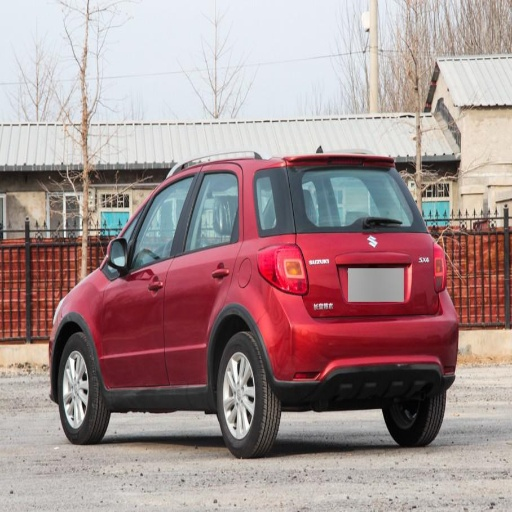back_bumper: (262, 288, 454, 386)
back_glass: (258, 167, 412, 226)
back_left_door: (164, 167, 243, 385)
trunk: (292, 234, 435, 324)
